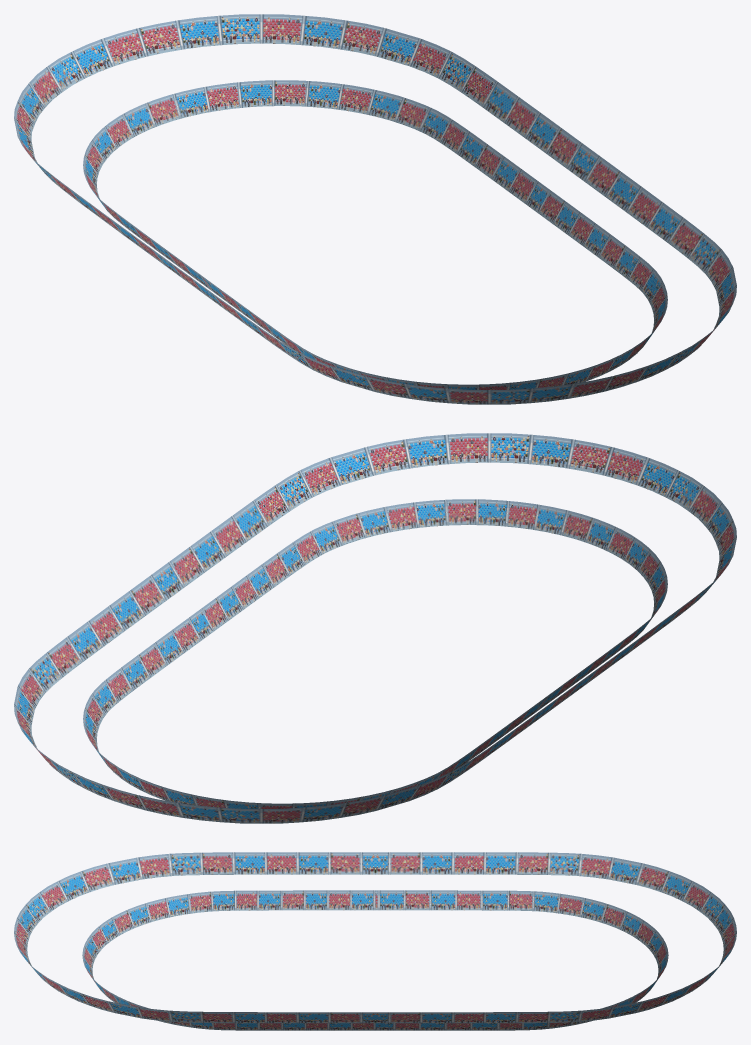
Rendered from Mesh_Battle_Match_Seat.fbx.
3 views of the same model, one above another, from view 1: azimuth 30°, elevation 25°; view 2: azimuth 150°, elevation 25°; view 3: azimuth 270°, elevation 25° (orthographic). The views are drawn at different scales.
Parts seen in each view (by area): view 1: Mesh_Battle_Match_Seat; view 2: Mesh_Battle_Match_Seat; view 3: Mesh_Battle_Match_Seat.
Boxes of the visible parts, <box> form: Mesh_Battle_Match_Seat: <box>14,14,736,404</box>; Mesh_Battle_Match_Seat: <box>14,433,736,823</box>; Mesh_Battle_Match_Seat: <box>14,852,736,1030</box>.
Size of the model in its own units: 17558 by 1964 by 33525.
